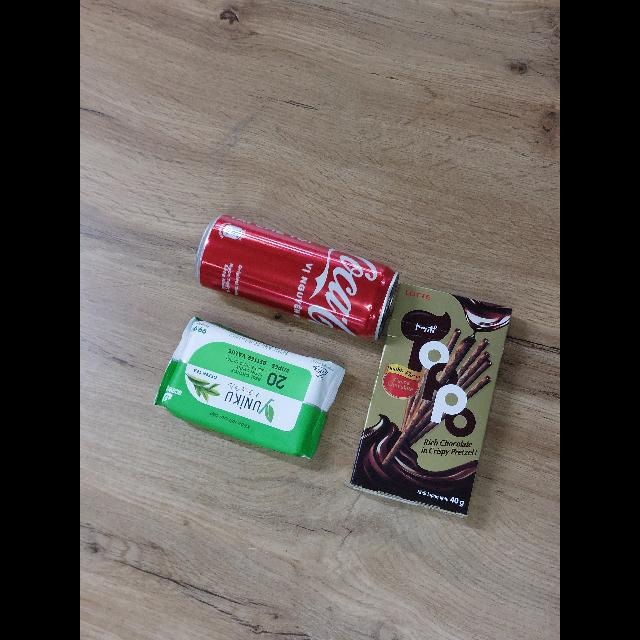banh_toppo_socola: (351, 282, 511, 516)
coca_cola: (196, 215, 398, 339)
khan_giay: (155, 318, 345, 458)
